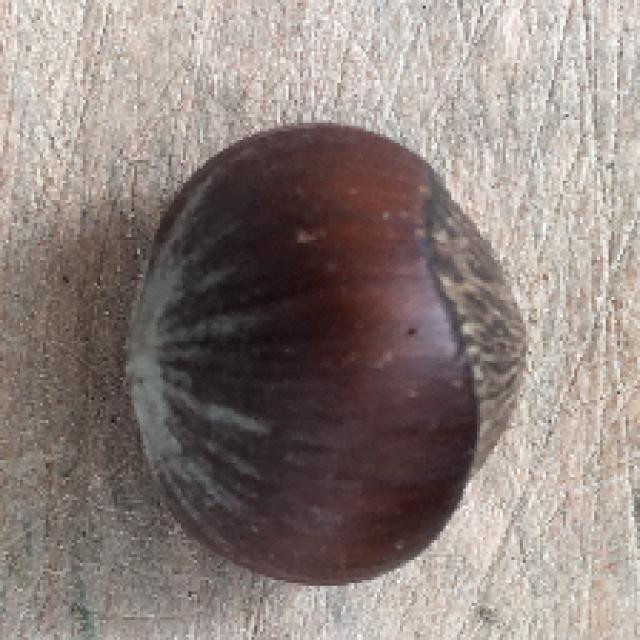DamagedHazelnut: (124, 121, 532, 584)
